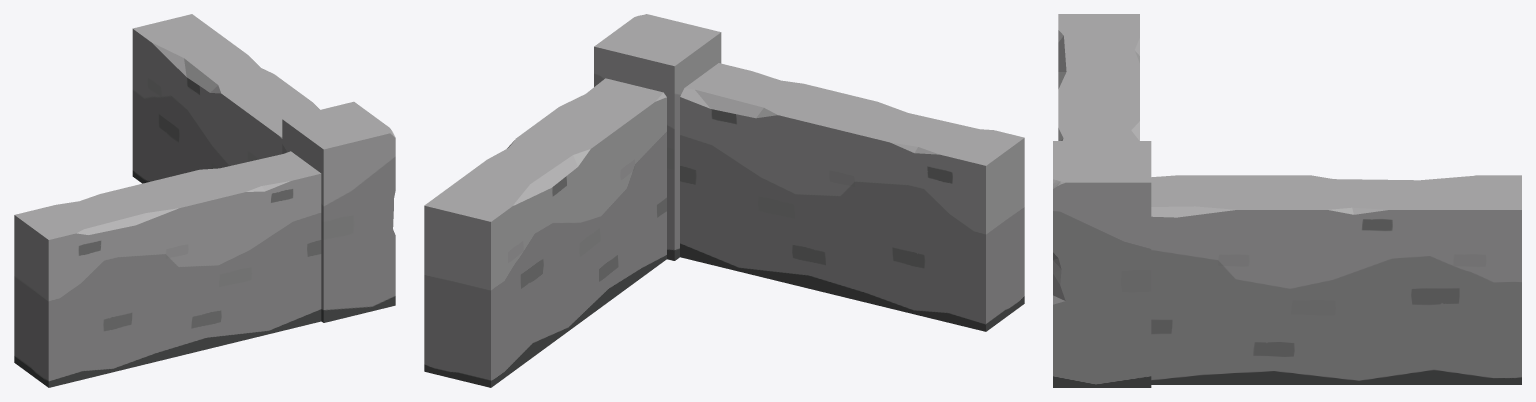
File: Wh_Brick_Fence_Corner.fbx
3 renders of one model, left to right at view 1: azimuth 30°, elevation 25°; view 2: azimuth 150°, elevation 25°; view 3: azimuth 270°, elevation 25°, orthographic. The views are drawn at different scales.
Visible parts, largest first — view 1: Cube.024; view 2: Cube.024; view 3: Cube.024.
Part boxes in pixels (x1,y1,x2,y2): Cube.024: [14, 14, 395, 387]; Cube.024: [424, 14, 1024, 387]; Cube.024: [1053, 14, 1521, 387].
Bounding box in the file's own units: 305 × 147 × 304.
